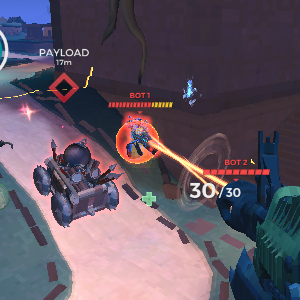model: (123, 118, 162, 165)
